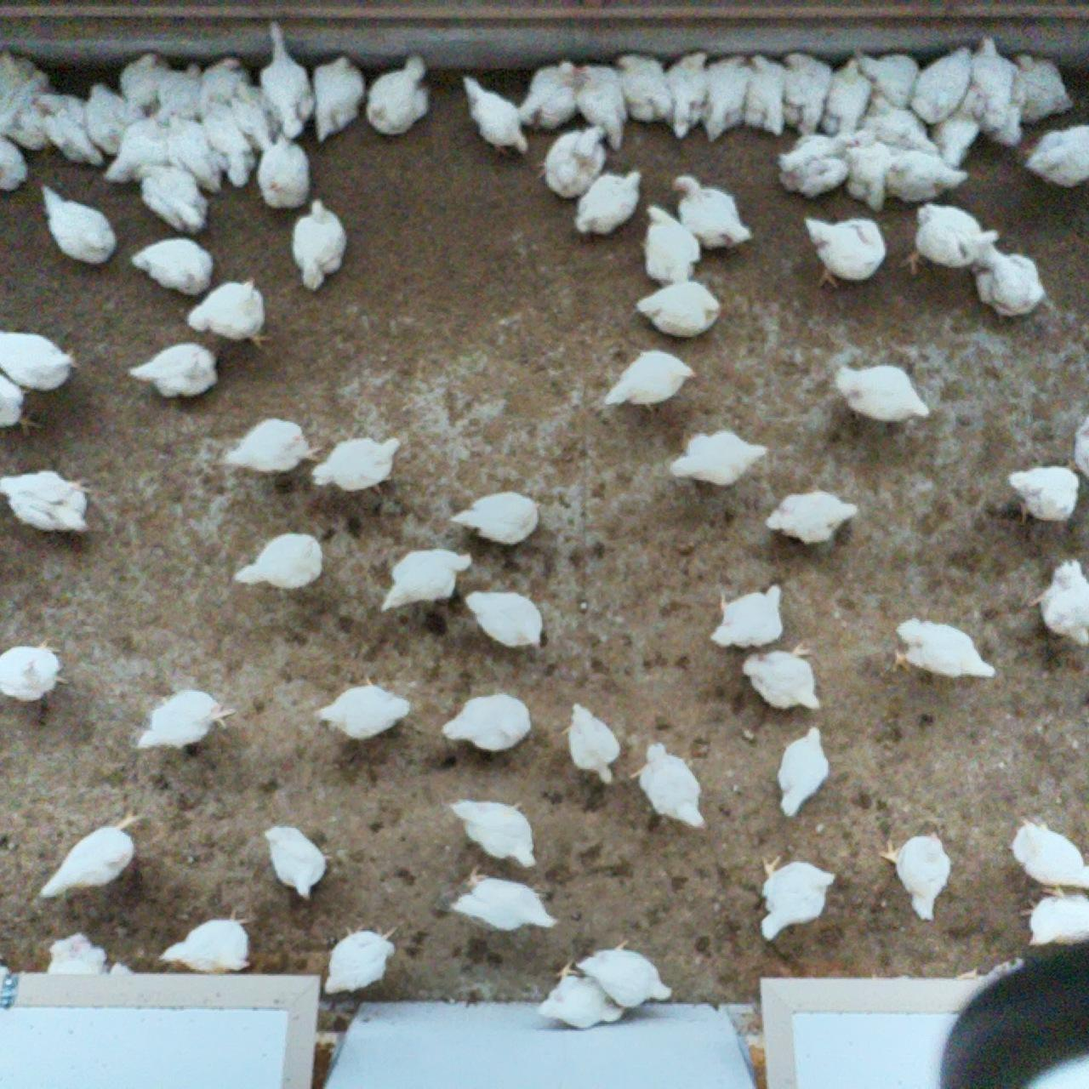chicken: (35, 806, 145, 900), (898, 196, 1001, 279), (253, 13, 318, 143), (445, 865, 564, 936), (888, 615, 1000, 689), (754, 848, 838, 942), (0, 465, 100, 542), (215, 413, 329, 480), (878, 826, 955, 925), (661, 424, 773, 492), (670, 174, 756, 262), (633, 737, 709, 836), (579, 934, 675, 1012), (375, 544, 477, 617), (312, 671, 414, 743), (797, 211, 886, 293), (157, 911, 261, 981), (150, 97, 224, 195), (533, 960, 635, 1031), (966, 30, 1030, 141), (449, 790, 540, 868), (836, 356, 931, 430), (183, 275, 274, 350), (964, 240, 1048, 321), (739, 641, 831, 714), (39, 184, 120, 266), (227, 525, 327, 591), (136, 686, 235, 751), (286, 195, 350, 295), (1022, 555, 1089, 650), (100, 103, 178, 184), (1006, 813, 1089, 889), (601, 350, 698, 415), (634, 198, 703, 289), (763, 486, 862, 549), (259, 820, 335, 902), (192, 92, 256, 189), (707, 576, 790, 650), (365, 49, 432, 140), (24, 91, 103, 168), (308, 433, 403, 497), (438, 691, 533, 755), (461, 587, 548, 656), (859, 87, 940, 161), (559, 696, 624, 788), (923, 80, 991, 167), (633, 277, 724, 342), (909, 39, 977, 125), (318, 929, 404, 997), (457, 72, 529, 153), (0, 326, 82, 397), (878, 147, 971, 209), (1003, 45, 1074, 126), (127, 340, 221, 401), (1012, 879, 1089, 953), (571, 54, 629, 152), (539, 124, 610, 204), (839, 124, 902, 213), (772, 726, 832, 818), (779, 46, 837, 141), (0, 636, 73, 711), (309, 51, 366, 147), (572, 166, 646, 239), (135, 162, 211, 233), (445, 491, 542, 546), (778, 129, 854, 199), (819, 55, 877, 145), (254, 126, 315, 211), (89, 81, 152, 163), (215, 77, 277, 160), (129, 235, 212, 297), (1024, 115, 1089, 194), (663, 43, 714, 143), (515, 57, 582, 133), (697, 48, 749, 144), (1000, 462, 1079, 525), (40, 930, 111, 1000), (615, 48, 674, 126), (741, 50, 791, 140), (853, 51, 926, 111), (192, 51, 254, 121), (155, 60, 211, 129), (117, 49, 171, 118), (0, 368, 48, 445), (0, 43, 51, 110), (92, 954, 146, 1009), (0, 103, 50, 151), (0, 130, 31, 201), (1066, 413, 1089, 490)
